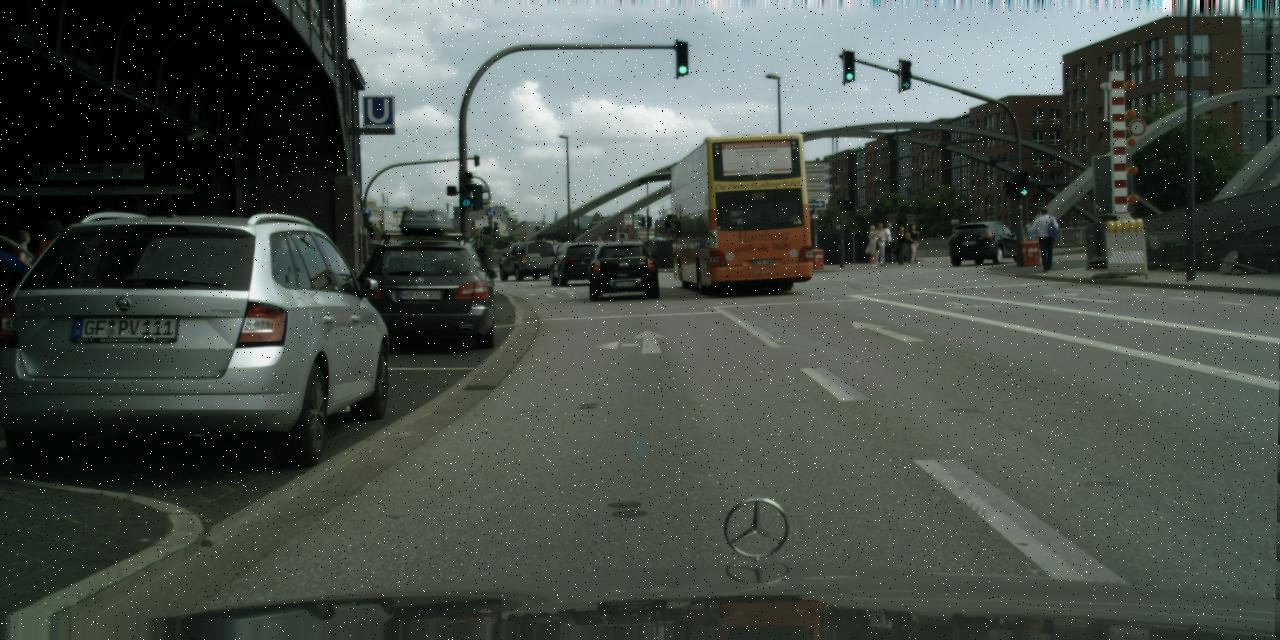ped: (34, 219, 67, 300), (7, 229, 34, 297), (1033, 207, 1058, 271), (1024, 217, 1041, 260), (880, 222, 897, 264), (872, 222, 888, 263), (904, 224, 920, 264), (865, 225, 881, 264), (904, 225, 920, 262), (129, 195, 144, 234), (893, 226, 908, 263), (593, 236, 603, 262), (654, 232, 662, 254), (554, 239, 562, 254), (508, 242, 514, 250), (664, 236, 671, 240), (542, 238, 546, 240), (517, 239, 519, 242)
